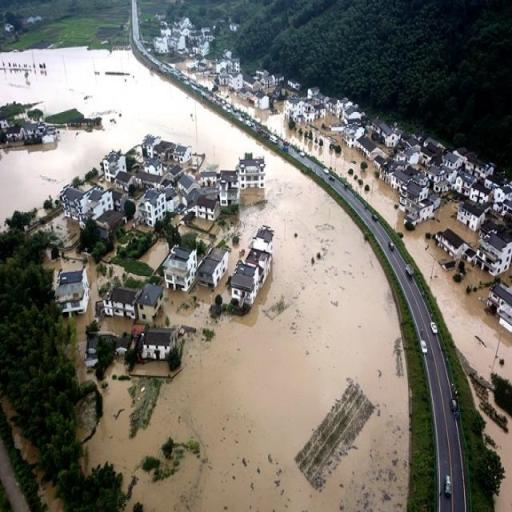flood: (0, 47, 410, 512), (224, 89, 512, 381), (488, 418, 512, 512), (178, 62, 213, 85)
house: (62, 183, 117, 228), (110, 280, 163, 322), (52, 262, 86, 316), (435, 226, 473, 271), (163, 246, 198, 294), (403, 187, 439, 230), (138, 326, 176, 366), (477, 233, 512, 275), (197, 244, 228, 290), (137, 187, 170, 230), (236, 155, 266, 195), (184, 192, 219, 226), (228, 262, 260, 298), (216, 166, 240, 212), (456, 198, 486, 234), (488, 276, 510, 325), (249, 226, 273, 261), (356, 135, 386, 162), (25, 124, 57, 144), (465, 156, 494, 178), (101, 155, 127, 179), (176, 172, 199, 194), (112, 172, 136, 192), (470, 184, 492, 204), (379, 124, 397, 148), (422, 138, 442, 157), (284, 100, 305, 118), (397, 149, 420, 165), (174, 144, 192, 164), (390, 170, 408, 190), (456, 174, 472, 196), (443, 152, 461, 170), (426, 164, 444, 182), (443, 153, 462, 170), (254, 91, 271, 110), (495, 184, 512, 203), (144, 159, 162, 176), (380, 161, 394, 182), (6, 126, 24, 141), (200, 172, 218, 186), (244, 77, 262, 91), (344, 106, 362, 120), (231, 72, 244, 91), (190, 32, 214, 42), (435, 179, 451, 194), (218, 70, 229, 86), (307, 86, 321, 97), (181, 16, 192, 28), (197, 44, 210, 54), (232, 58, 240, 72), (273, 73, 284, 83), (336, 100, 342, 118)
